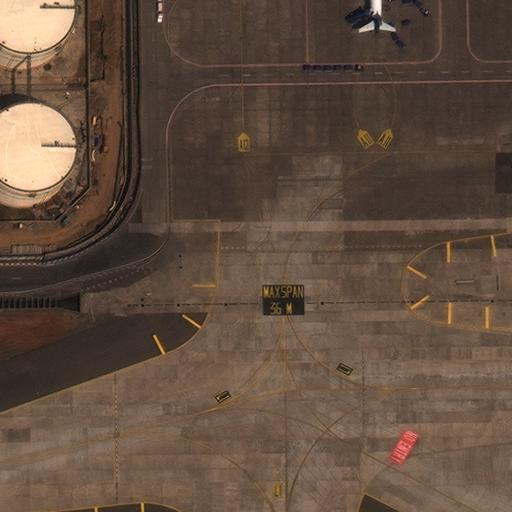Medium Civil Transport: (336, 0, 412, 32)
